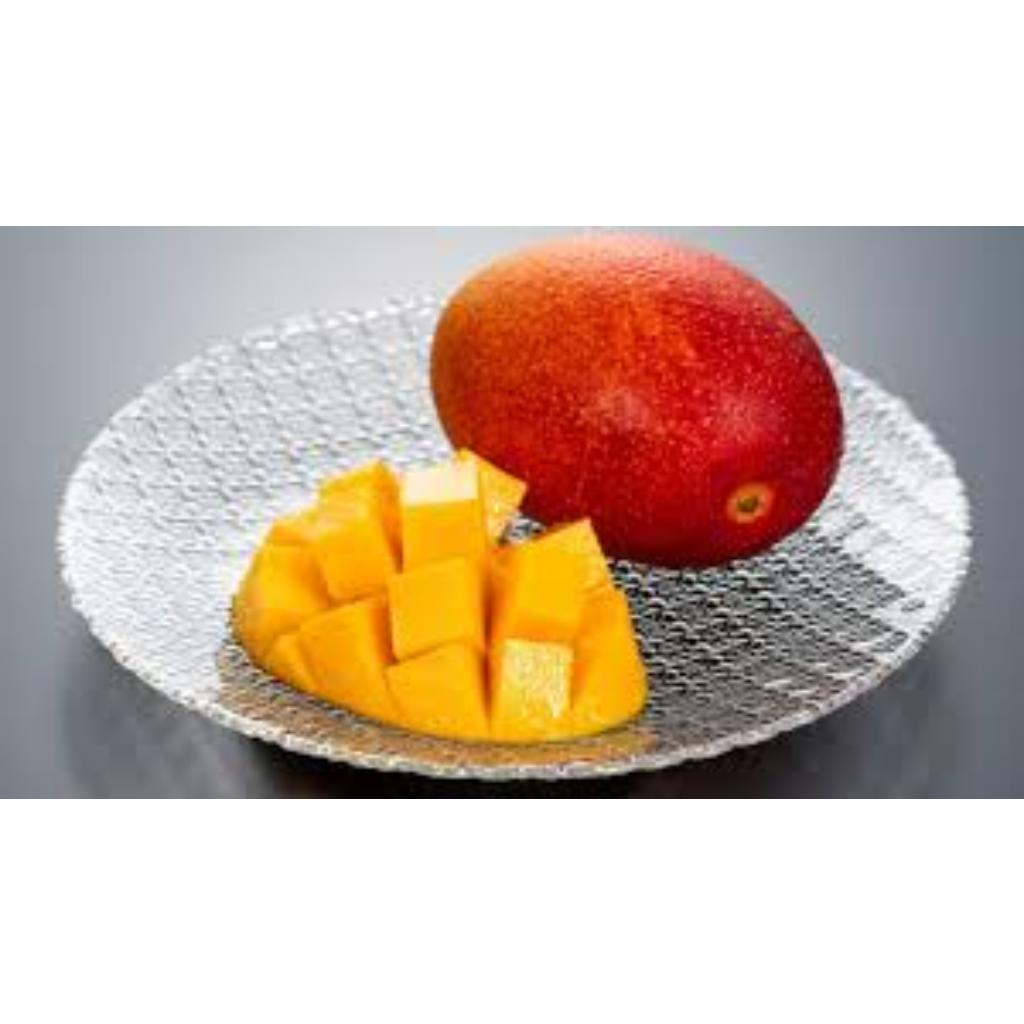mango: (435, 227, 849, 561), (229, 454, 649, 747)
